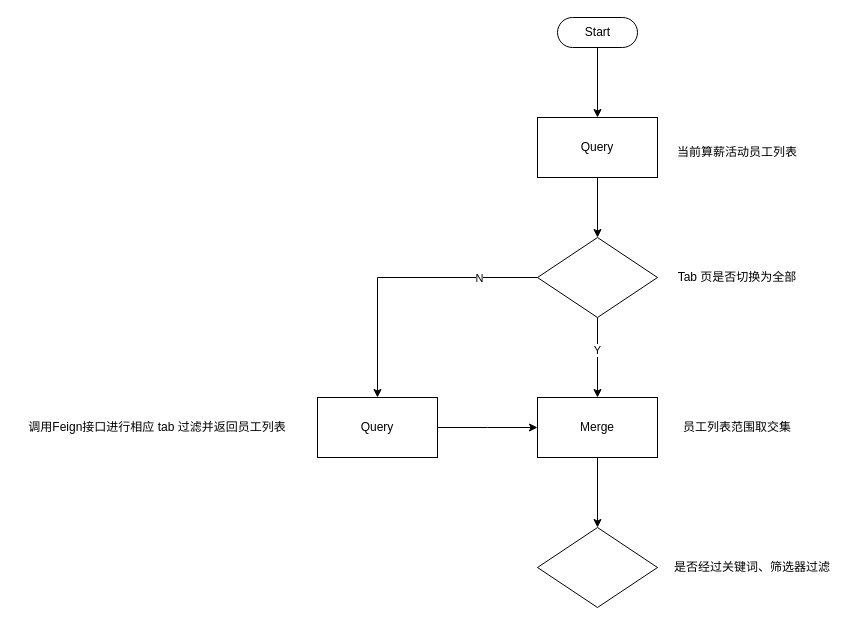
Some shapes in this 854 by 625 pixel diagram are drawn without their labels. The shapes that lost their labels are listed below. From the top down, each one's centre as x and y in pixels, then its label:
At pixel 597 277: "Tab = 0".
At pixel 597 567: "Filter".
